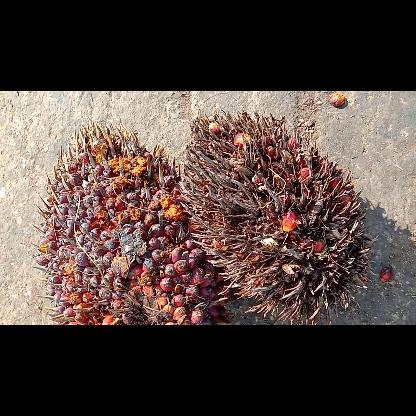TBS masak: (33, 124, 231, 324)
Terlalu masak: (180, 110, 374, 324)
